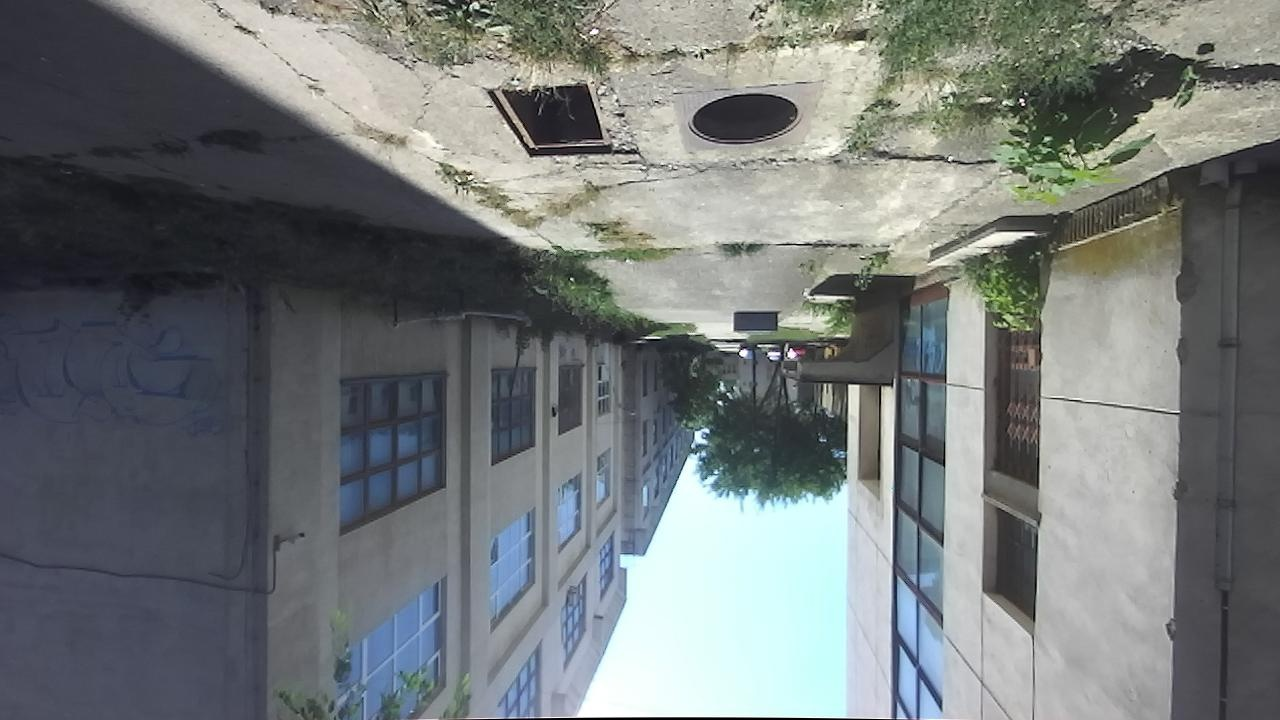drain: (480, 80, 620, 163), (683, 90, 808, 148)
